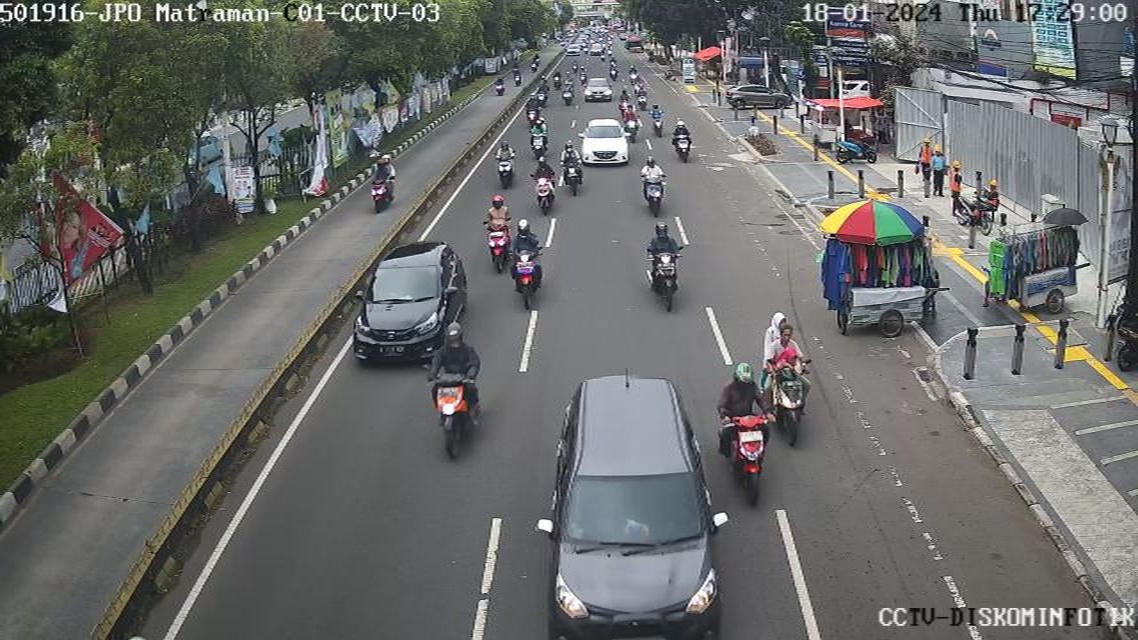Gerobak: (964, 207, 1113, 317), (814, 242, 950, 342)
